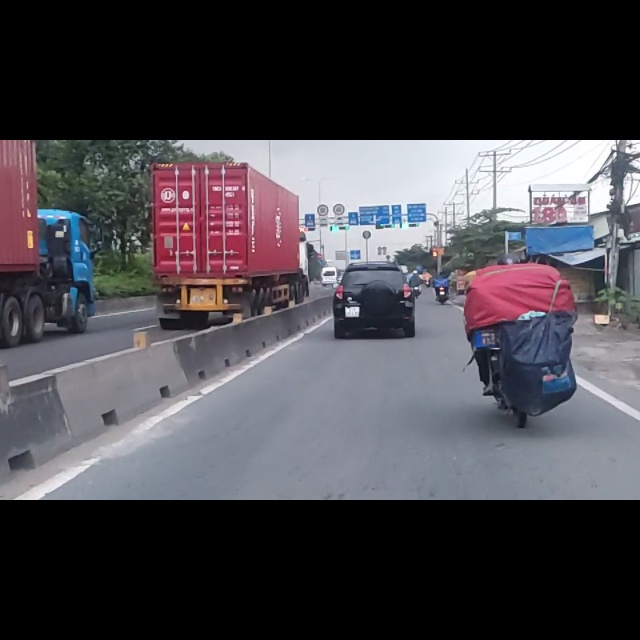bien_hieu_lenh: (317, 115, 329, 135), (333, 114, 345, 134)
